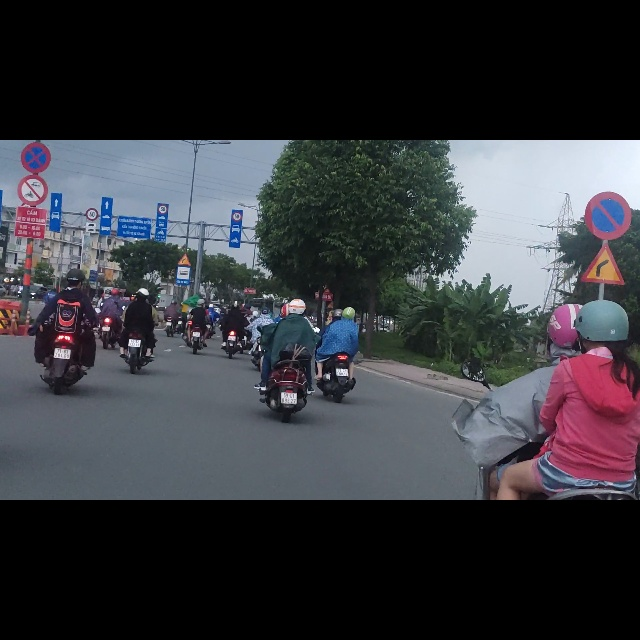bien_chi_dan: (583, 89, 632, 180), (578, 180, 625, 258), (17, 60, 48, 116), (20, 4, 51, 59), (176, 221, 191, 258), (176, 201, 192, 224), (86, 120, 98, 143), (85, 146, 96, 166), (232, 127, 242, 145), (158, 116, 168, 132)
